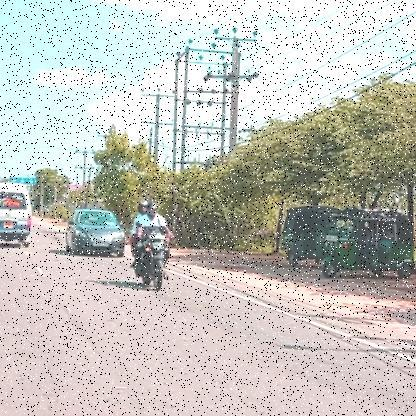motorcycle: (128, 230, 176, 294)
